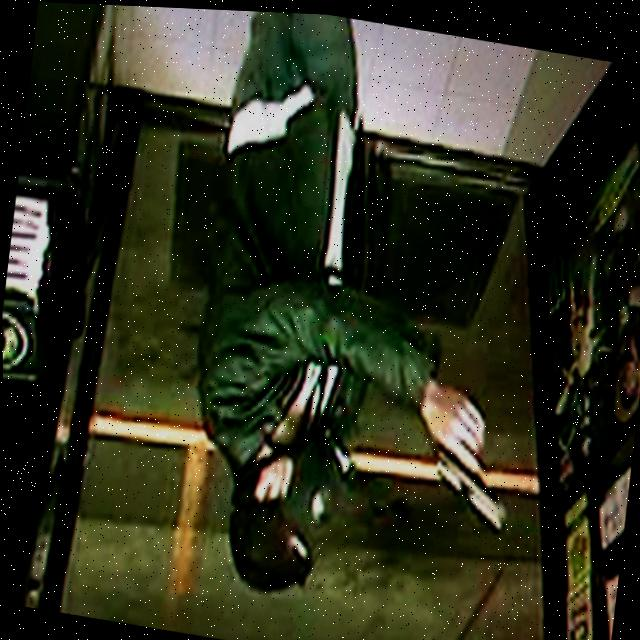pistol: (430, 440, 514, 529)
